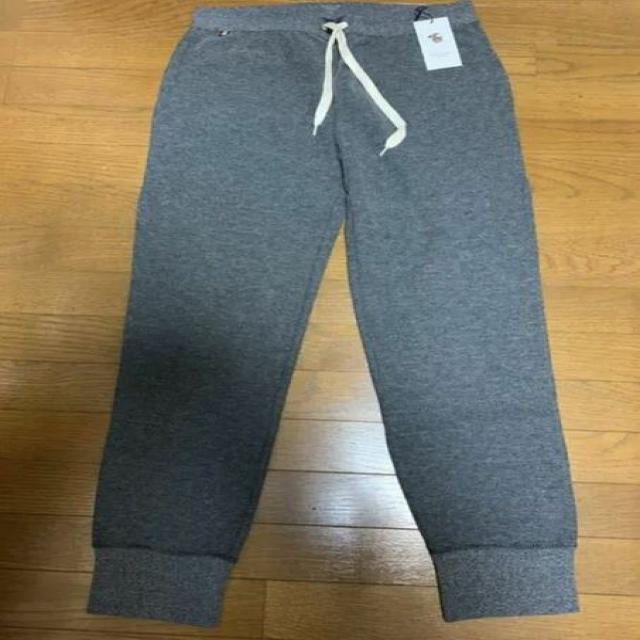long-pants: (82, 0, 583, 628)
